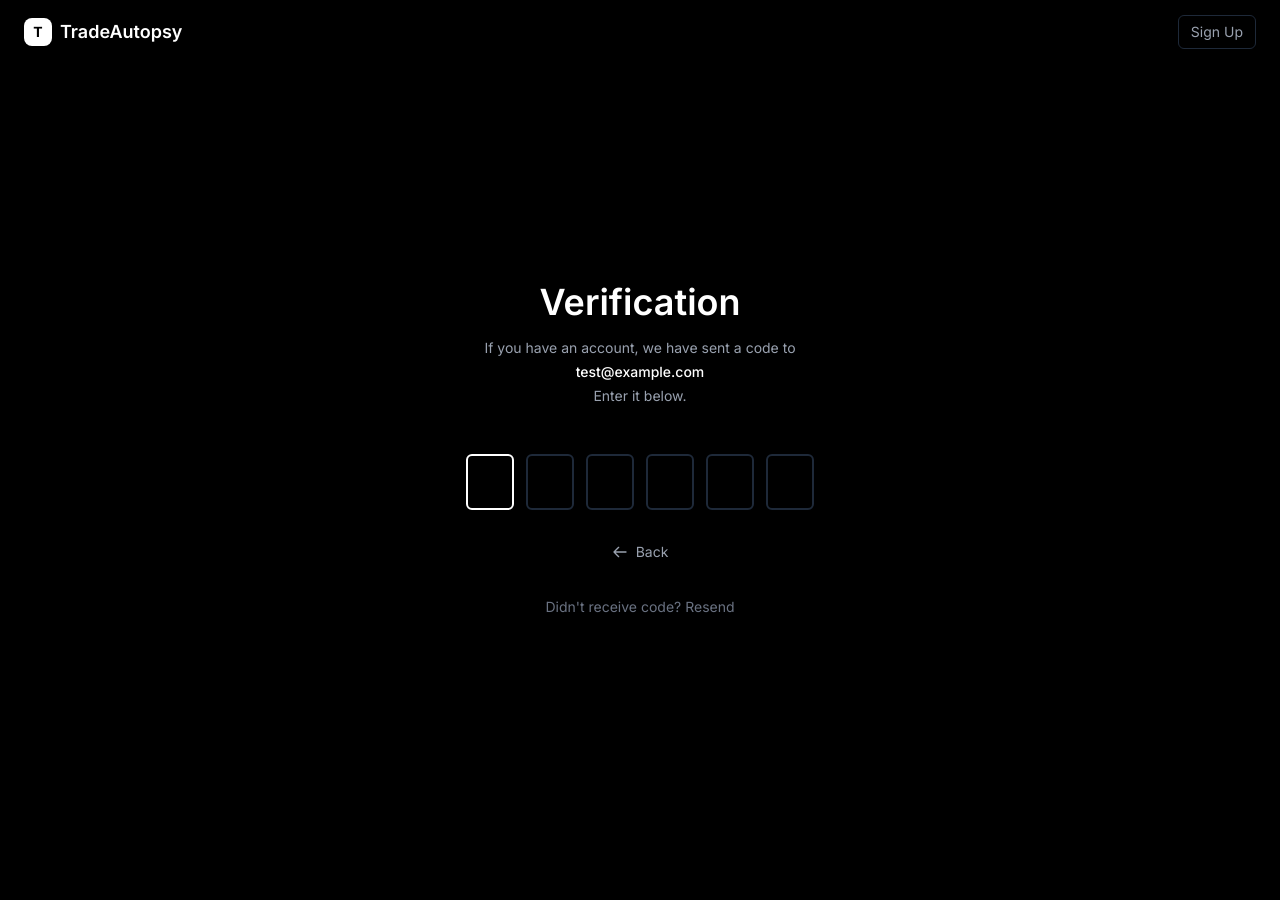
OTPVerification › should display error on invalid OTP
In the 1st field: (490, 482) [466,454,514,510], type "1"
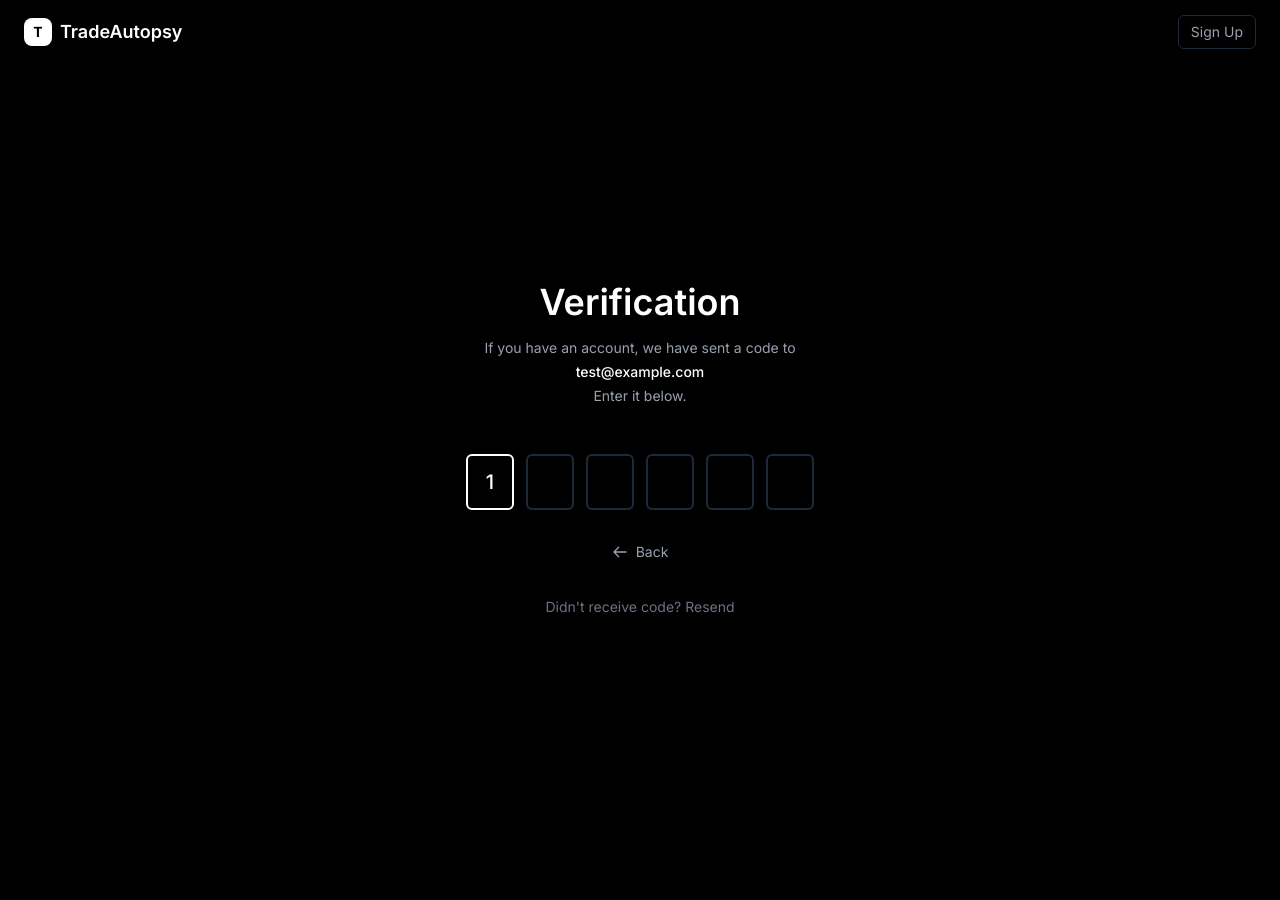
In the 2nd field: (550, 482) [526,454,574,510], type "2"
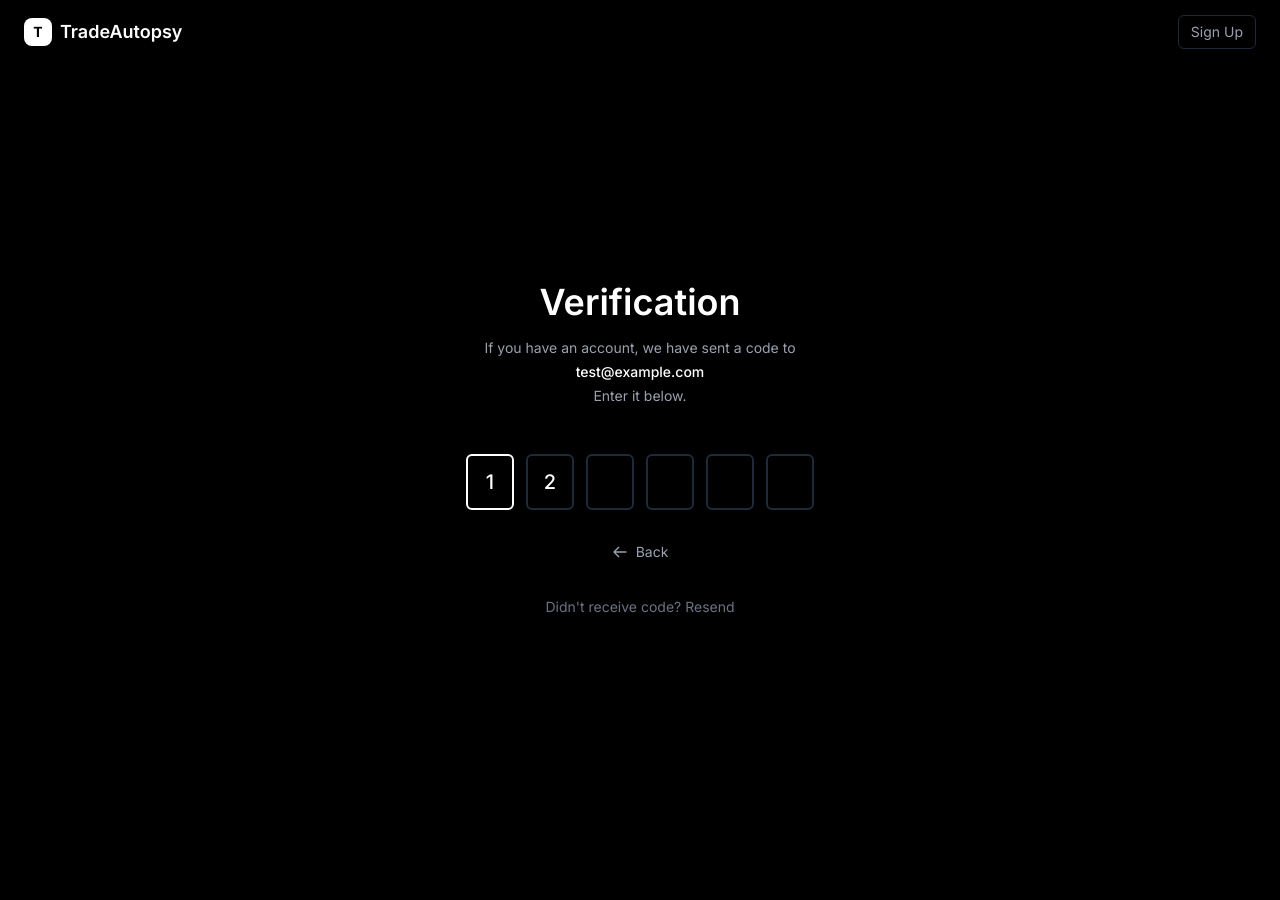
In the 3rd field: (610, 482) [586,454,634,510], type "3"
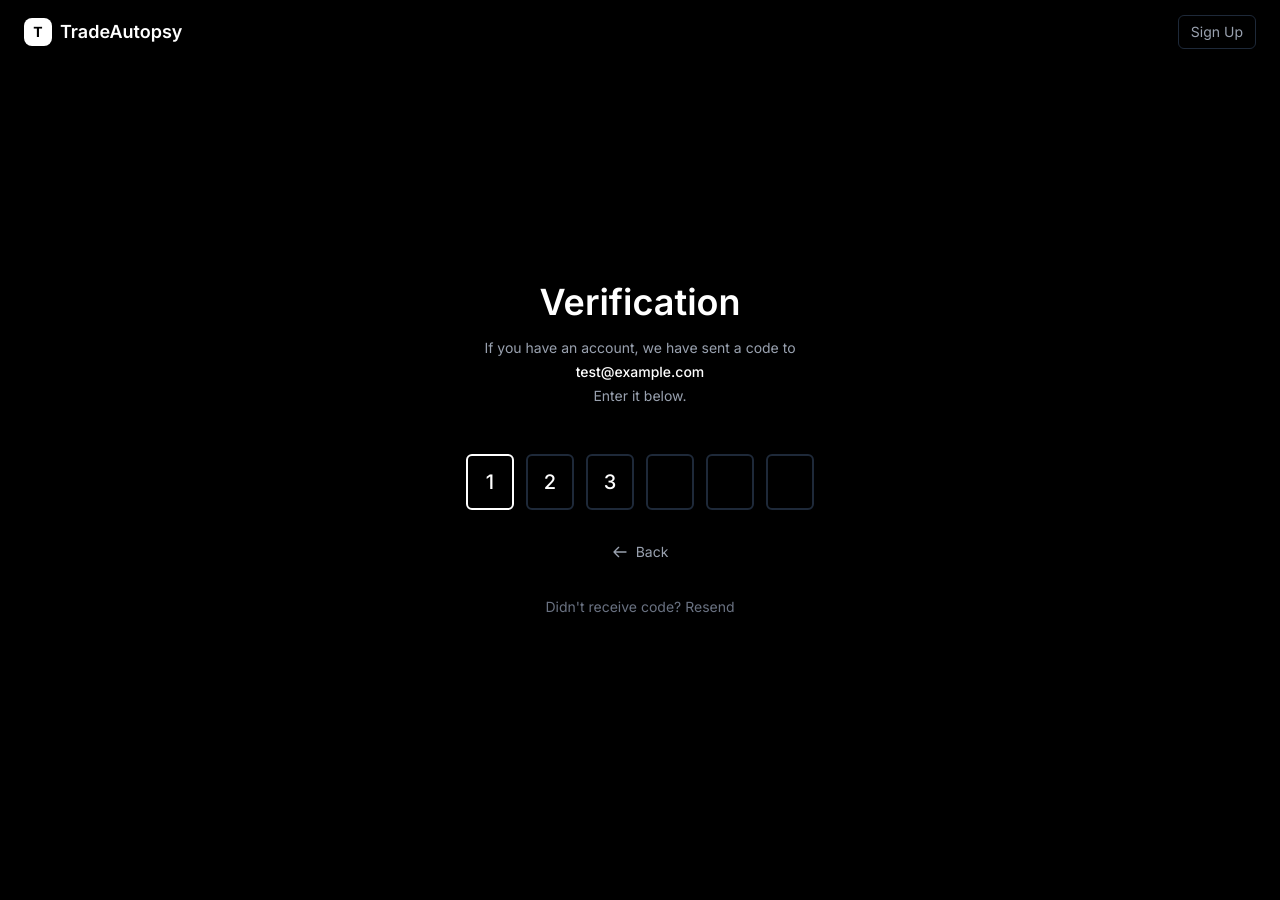
In the 4th field: (670, 482) [646,454,694,510], type "4"
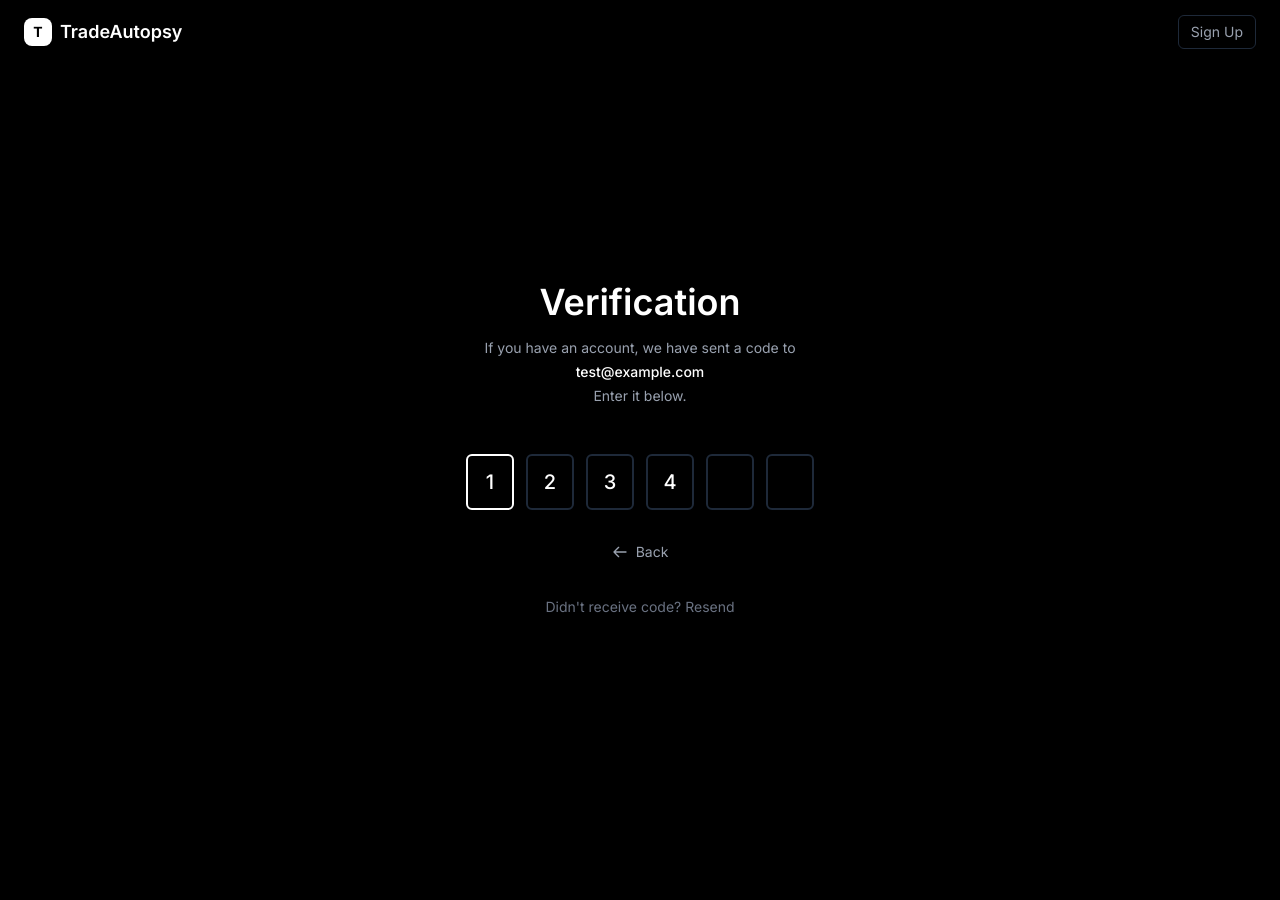
In the 5th field: (730, 482) [706,454,754,510], type "5"
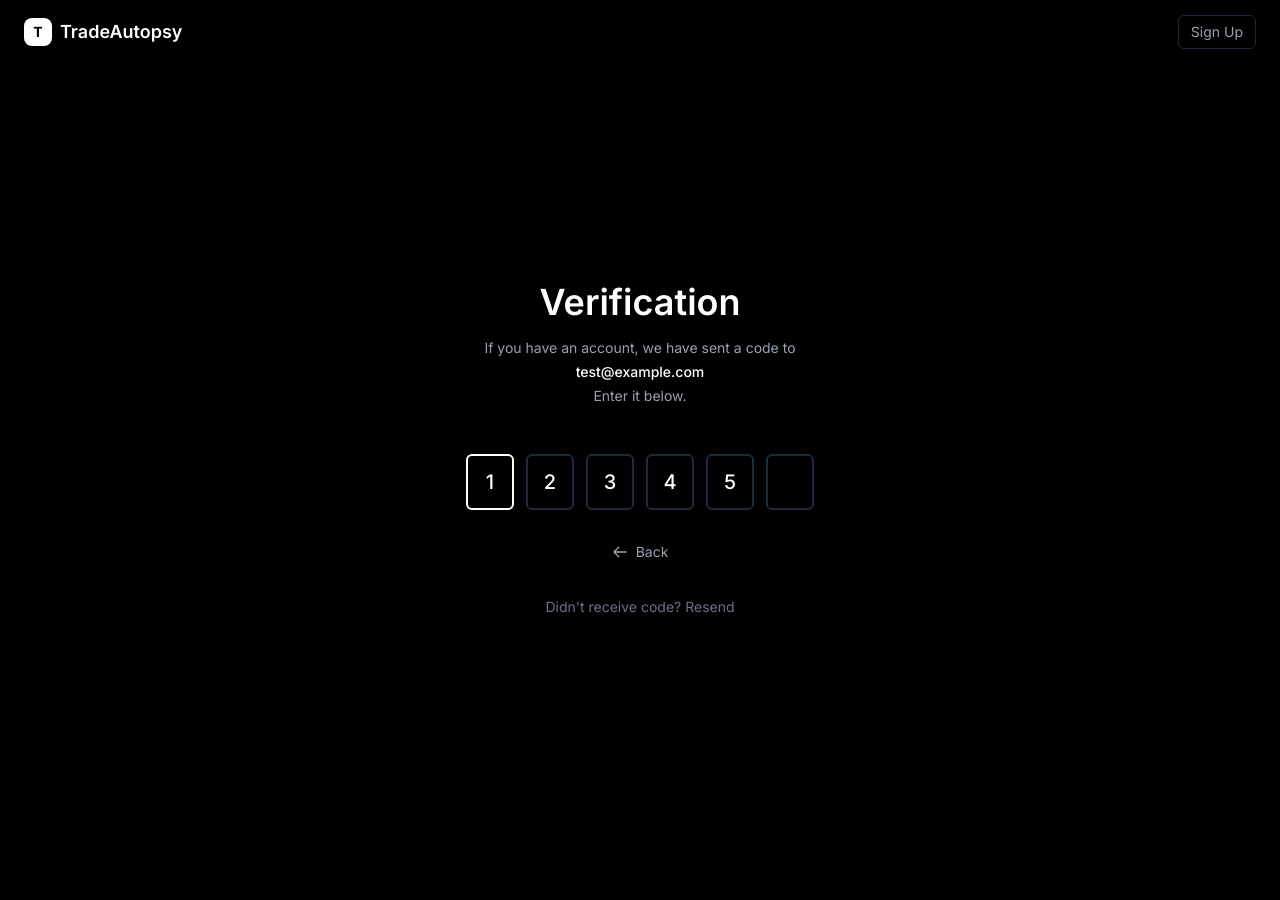
In the 6th field: (790, 482) [766,454,814,510], type "6"
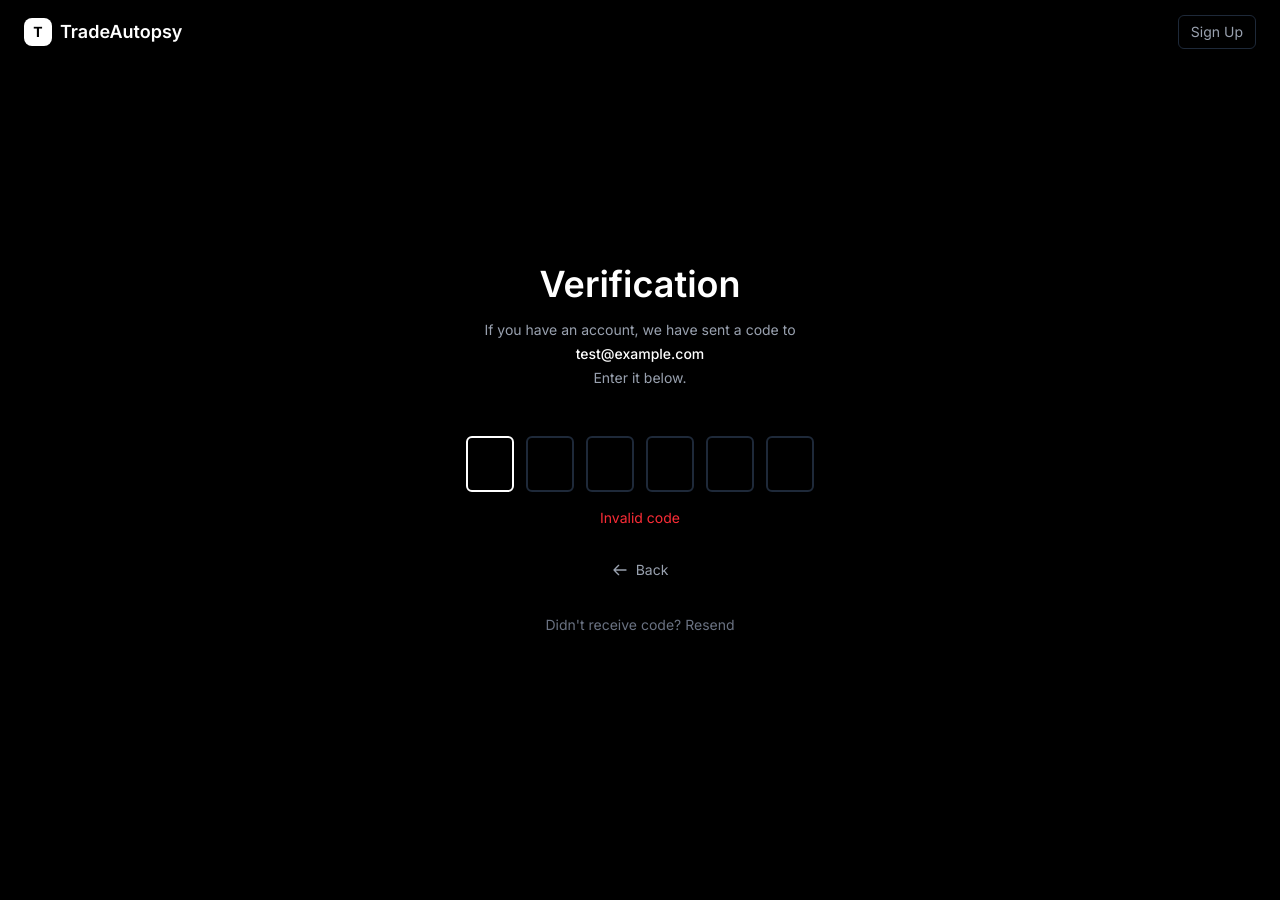
Expected: the text "Invalid code" is shown, [600,509,680,526]
